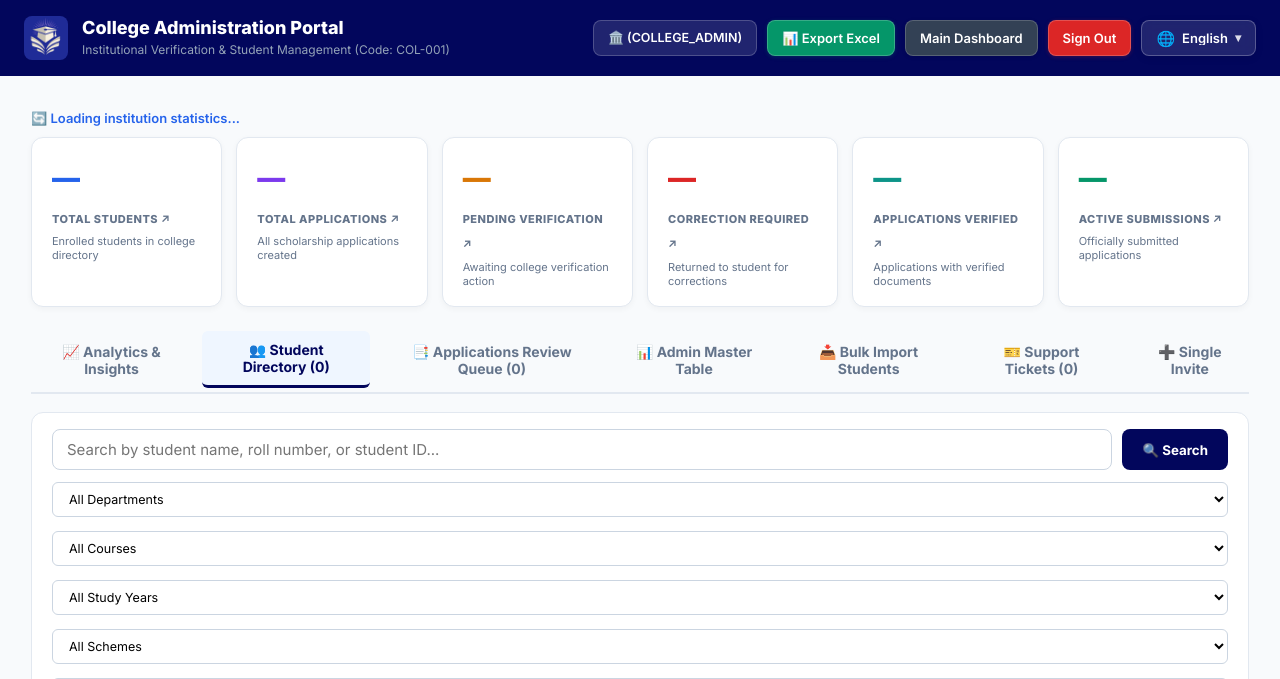
CollegeDashboard UI & Chart Usability Enhancements › 4. Renders weekly trend chart with proper series names and actual dates
This screenshot has width=1280, height=679.
Click the button "📈 Analytics & Insights": (112, 360) [31,331,192,388]
(page scrolled)
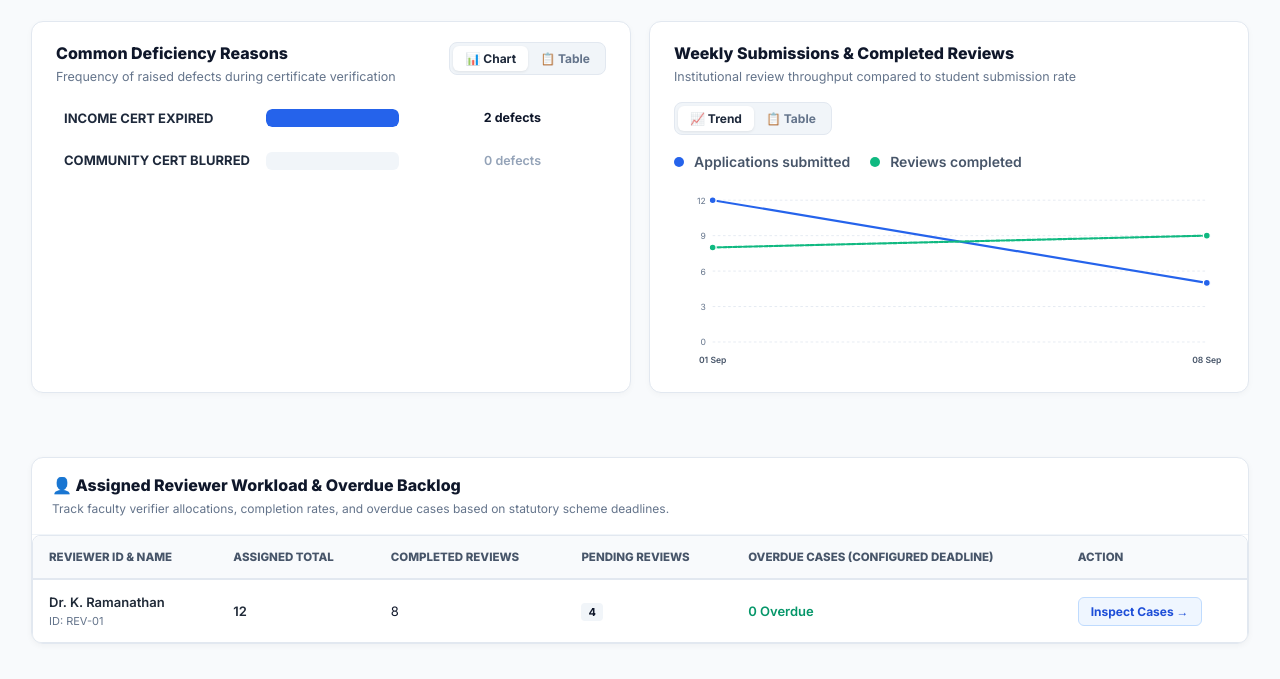
Expected: the text "01 Sep" is shown, [699,356,726,366]
Expected: the text "Applications submitted" is shown, [674,151,850,173]
Expected: the text "Reviews completed" is shown, [870,151,1022,173]
